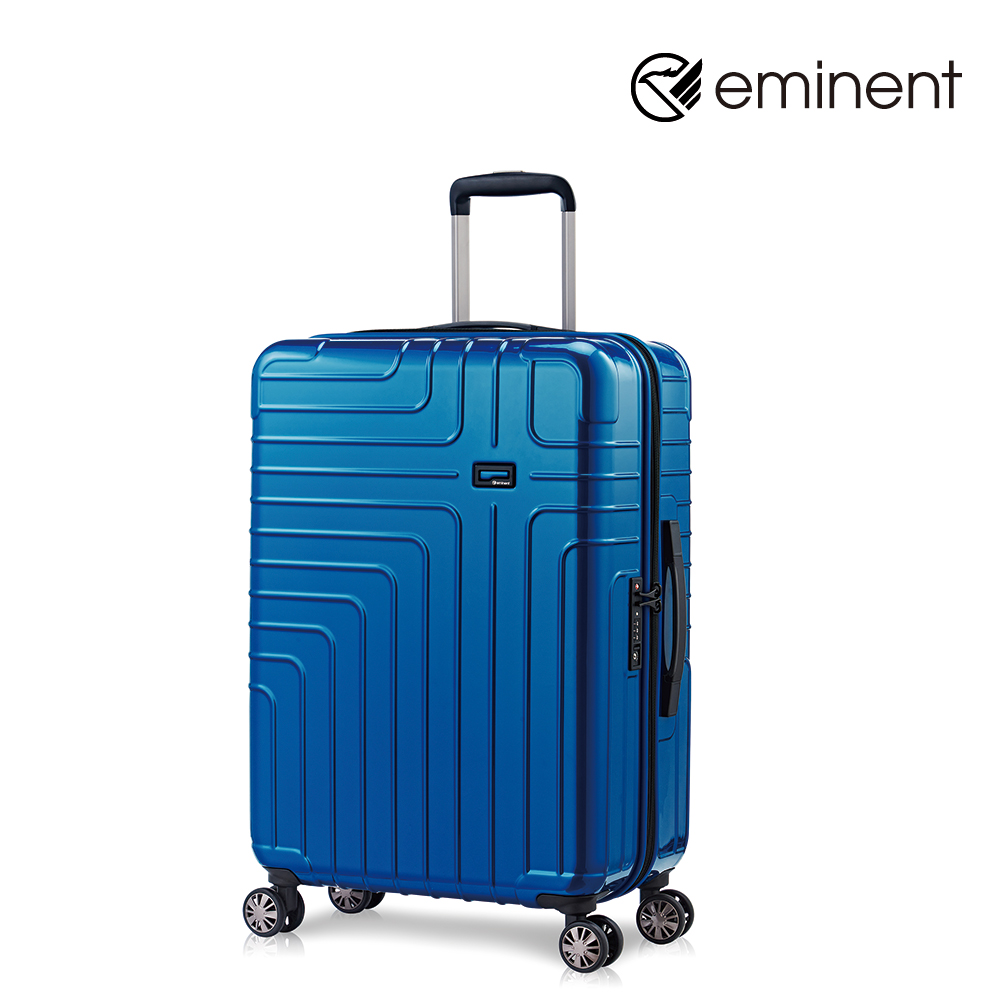luggage: (243, 171, 696, 970)
